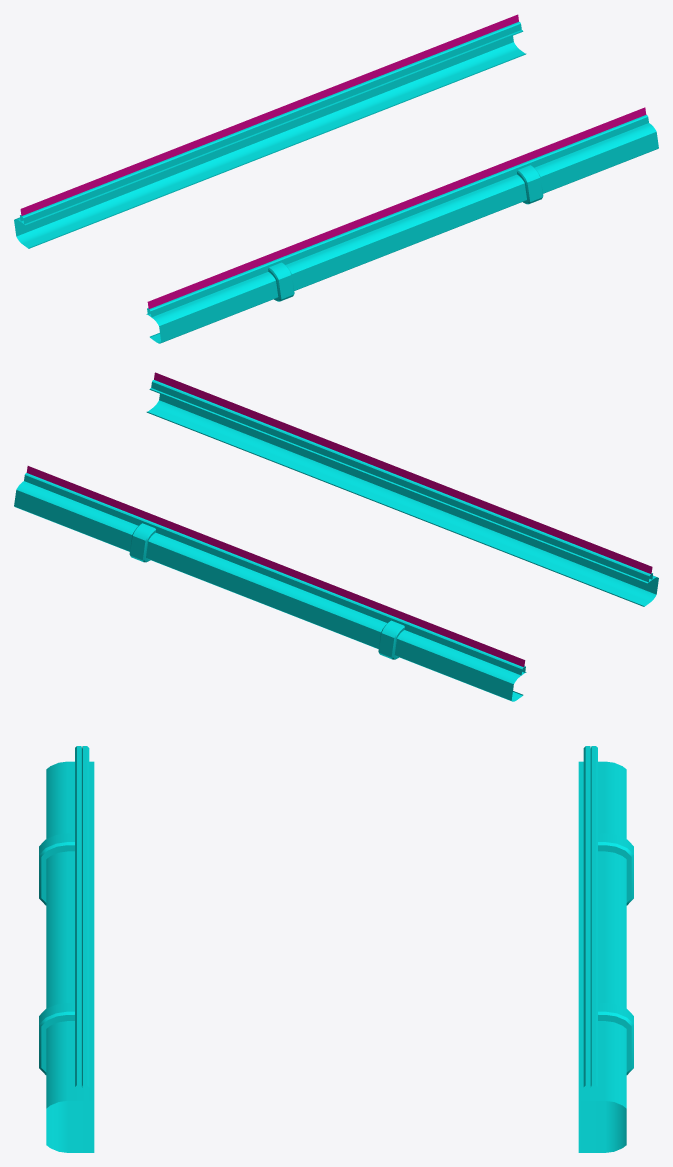
Rendered from Mur_D_8.fbx.
The picture shows the model from 3 angles, top to bottom: view 1: azimuth 30°, elevation 25°; view 2: azimuth 150°, elevation 25°; view 3: azimuth 270°, elevation 25°; orthographic projection. The views are drawn at different scales.
Visible parts, largest first — view 1: polySurface833; view 2: polySurface833; view 3: polySurface833.
Part boxes in pixels (x1,y1,x2,y2): polySurface833: (14,14,658,343); polySurface833: (14,372,658,701); polySurface833: (39,746,633,1152).
Bounding box in the file's own units: 30.02 × 6.41 × 15.38.
